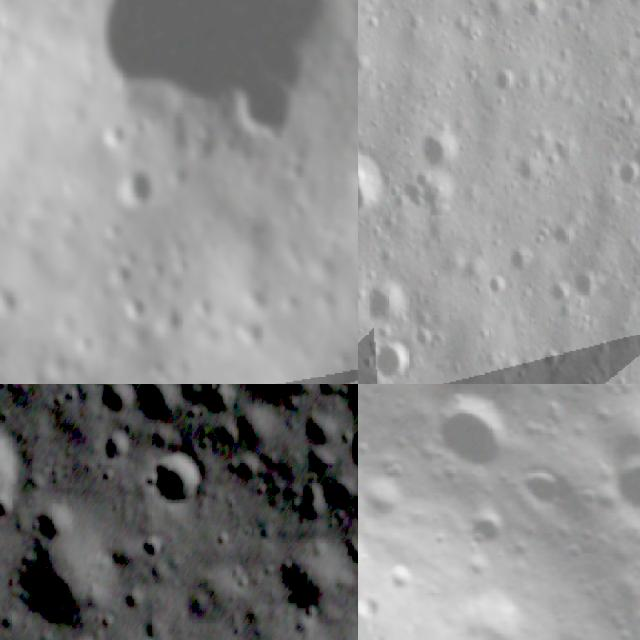crater: (425, 384, 539, 486), (15, 554, 89, 638), (130, 444, 206, 522), (515, 451, 579, 515), (0, 419, 34, 536), (358, 135, 395, 241), (597, 439, 640, 526), (359, 276, 414, 332), (24, 499, 76, 554), (126, 384, 184, 431), (415, 120, 469, 168), (369, 333, 418, 384), (185, 384, 242, 423), (91, 428, 140, 473), (379, 549, 423, 597), (109, 165, 148, 213), (565, 262, 605, 302), (358, 384, 429, 406), (505, 243, 545, 282), (604, 154, 640, 197), (336, 421, 358, 484), (543, 218, 579, 255), (116, 294, 154, 326), (341, 490, 358, 536), (98, 127, 130, 148)
